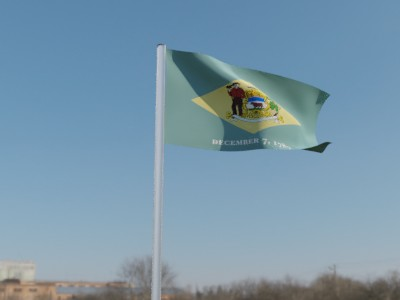Delaware flag: (163, 48, 336, 157)
